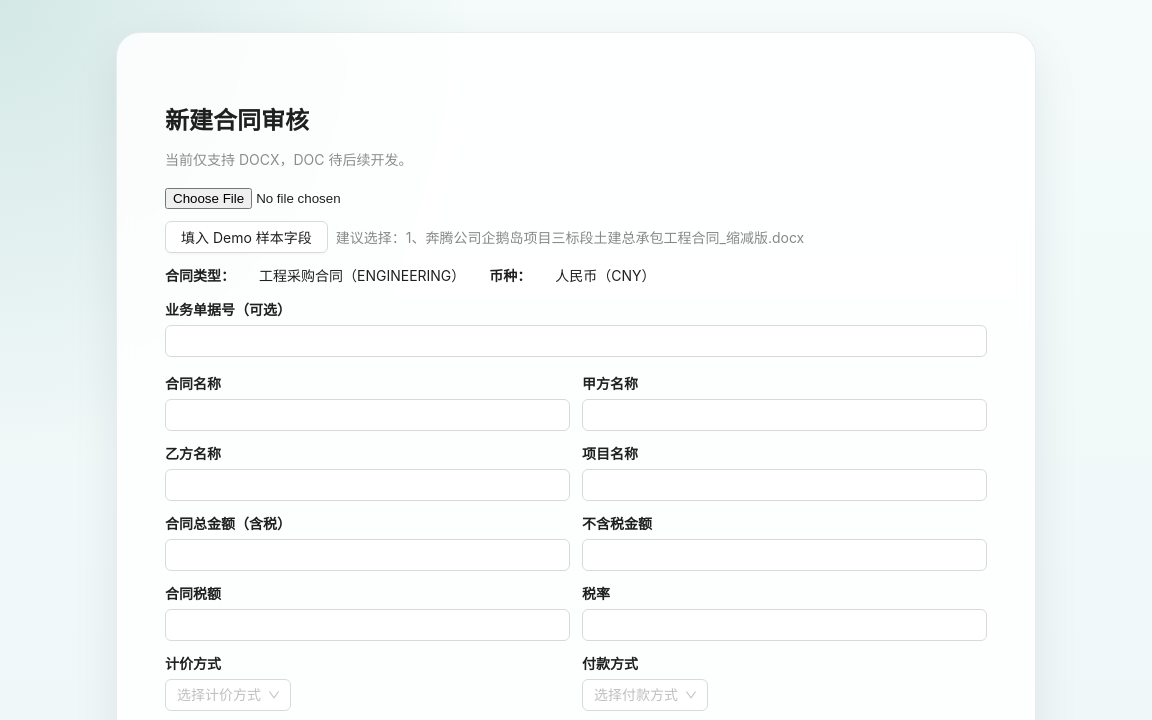
Scenario: ReviewTaskCreationPage › payment method switching › 4b: switching back preserves previously entered values
Click the button "填入 Demo 样本字段": [246, 237] box [165, 221, 328, 253]
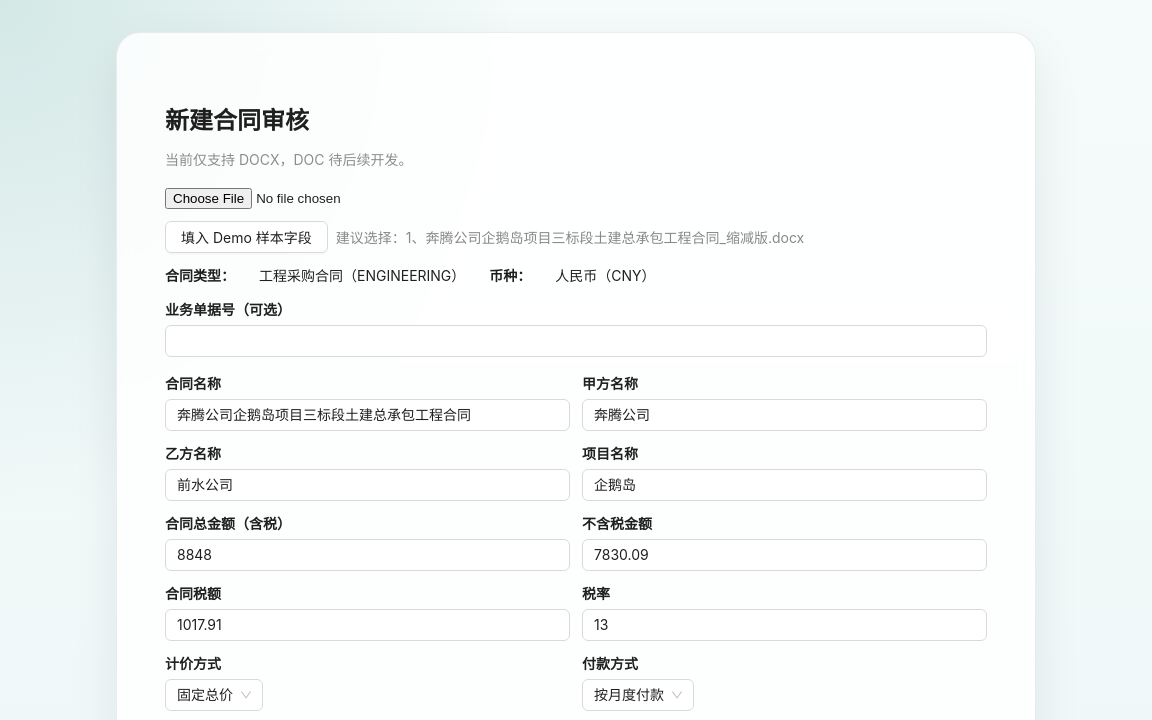
Press the mouse on the element showing "按月度付款": [638, 695] box [582, 679, 694, 711]
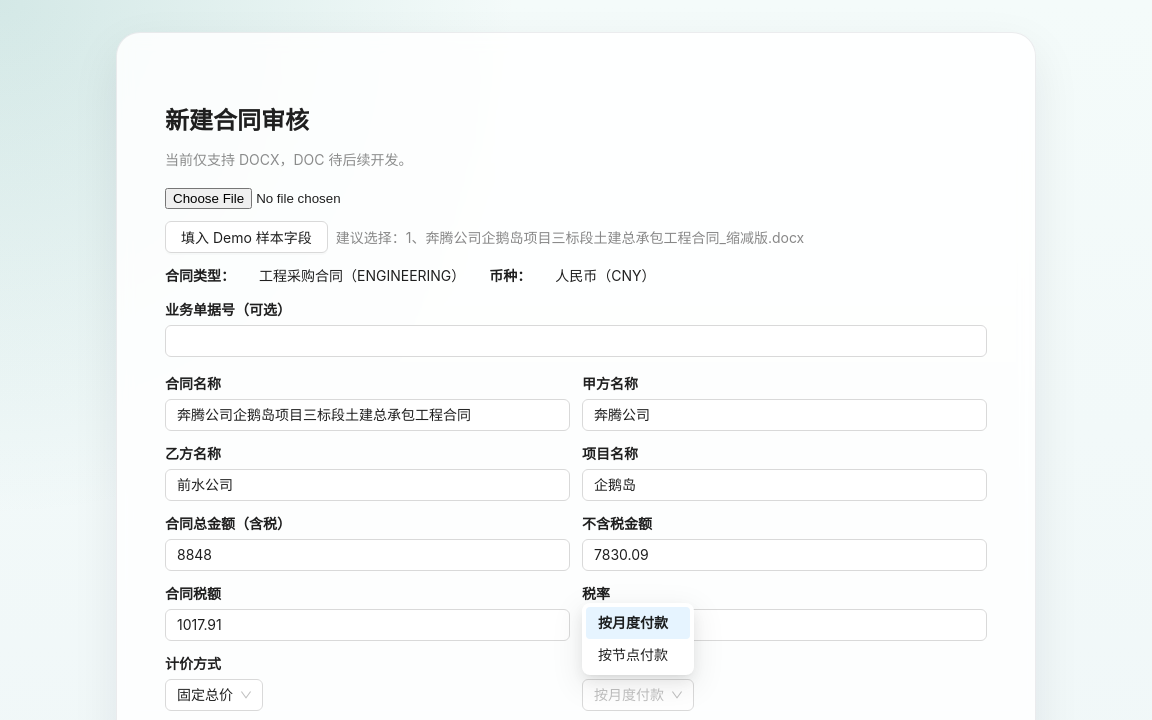
Expected: the text "按节点付款" is shown
Click the text "按节点付款": [638, 655] box [598, 644, 678, 666]
(page scrolled)
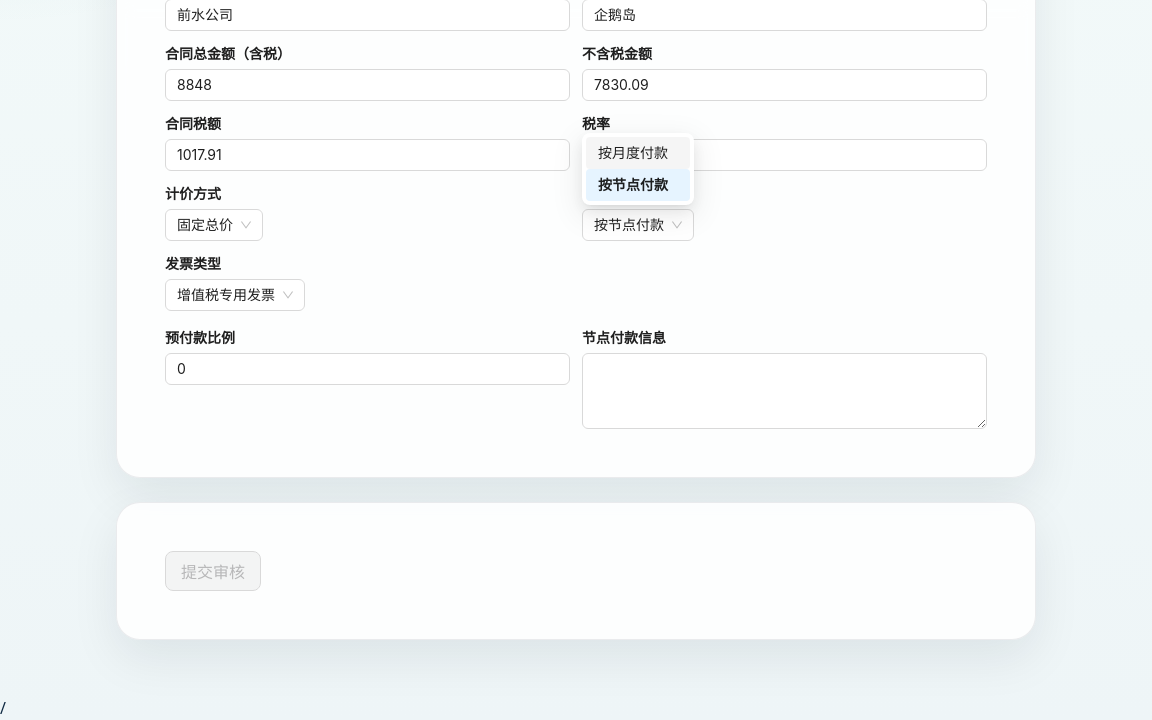
Expected: the field with test id "field-prepaymentRatio" holds "0", [165, 353, 570, 385]
In the text box with test id "field-milestonePaymentTerms": [784, 391] box [582, 353, 987, 429], type "里程碑1: 50%; 里程碑2: 50%"
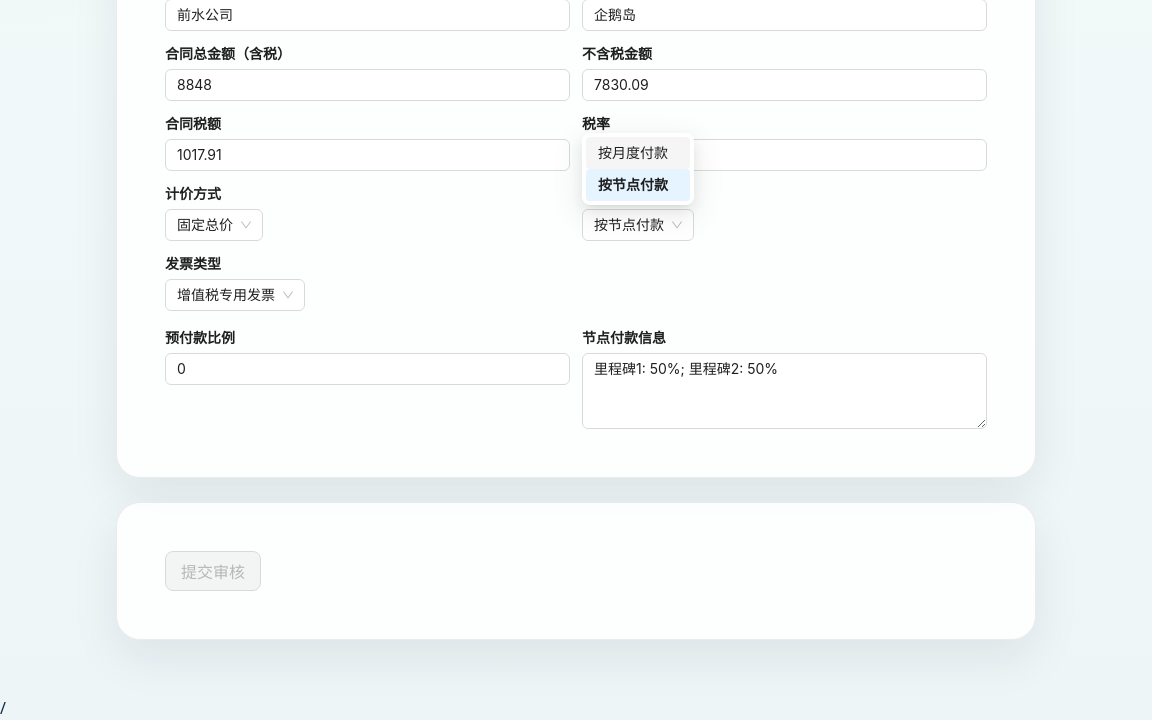
Press the mouse on the element showing "按节点付款": [638, 225] box [582, 209, 694, 241]
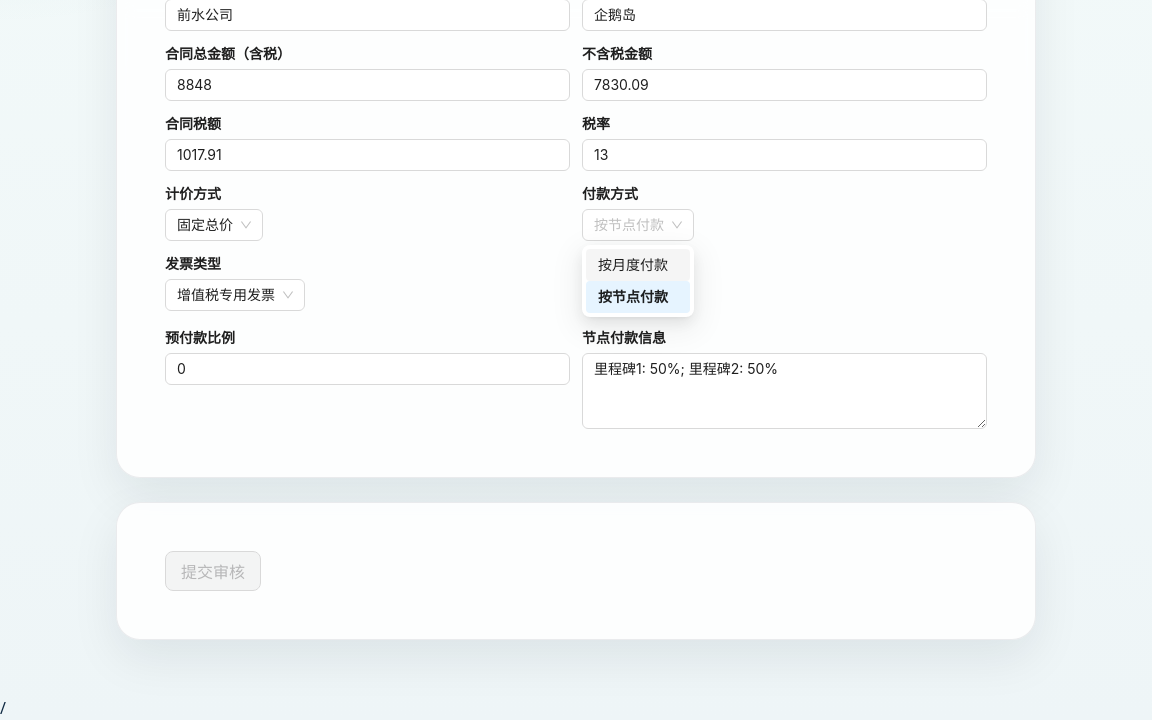
Expected: the text "按月度付款" is shown
Click the text "按月度付款": [638, 265] box [598, 254, 678, 276]
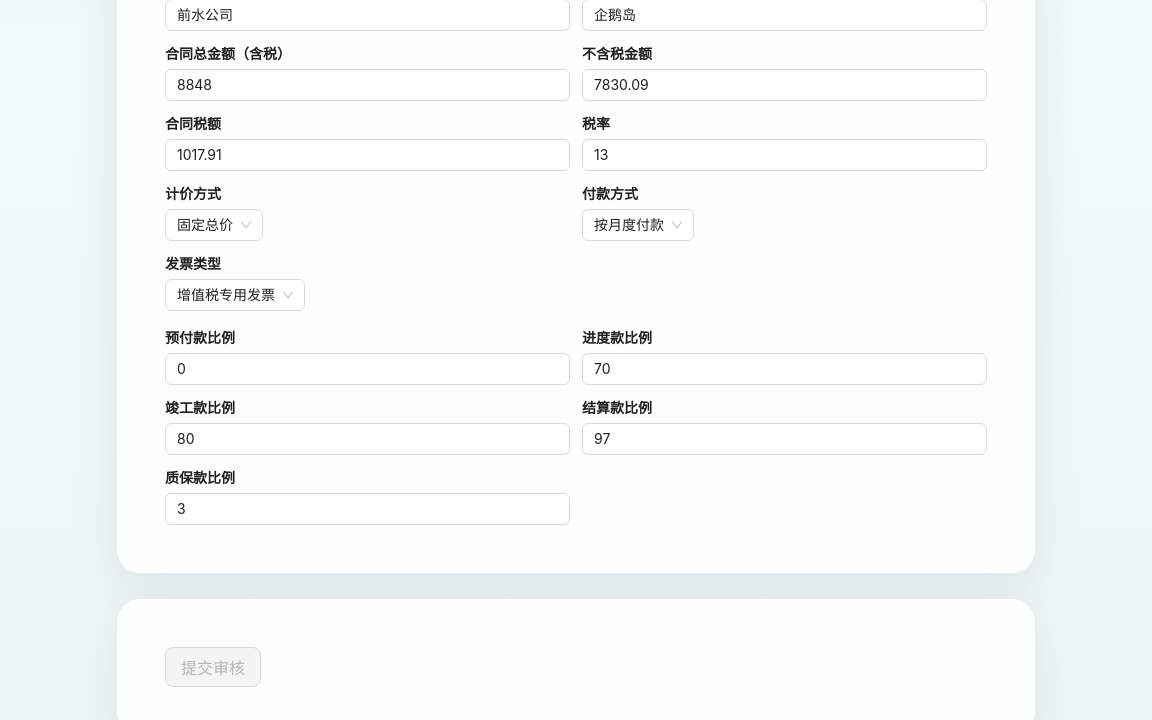
Expected: the field with test id "field-prepaymentRatio" holds "0", [165, 353, 570, 385]
Expected: the field with test id "field-progressPaymentRatio" holds "70", [582, 353, 987, 385]
Expected: the field with test id "field-completionPaymentRatio" holds "80", [165, 423, 570, 455]
